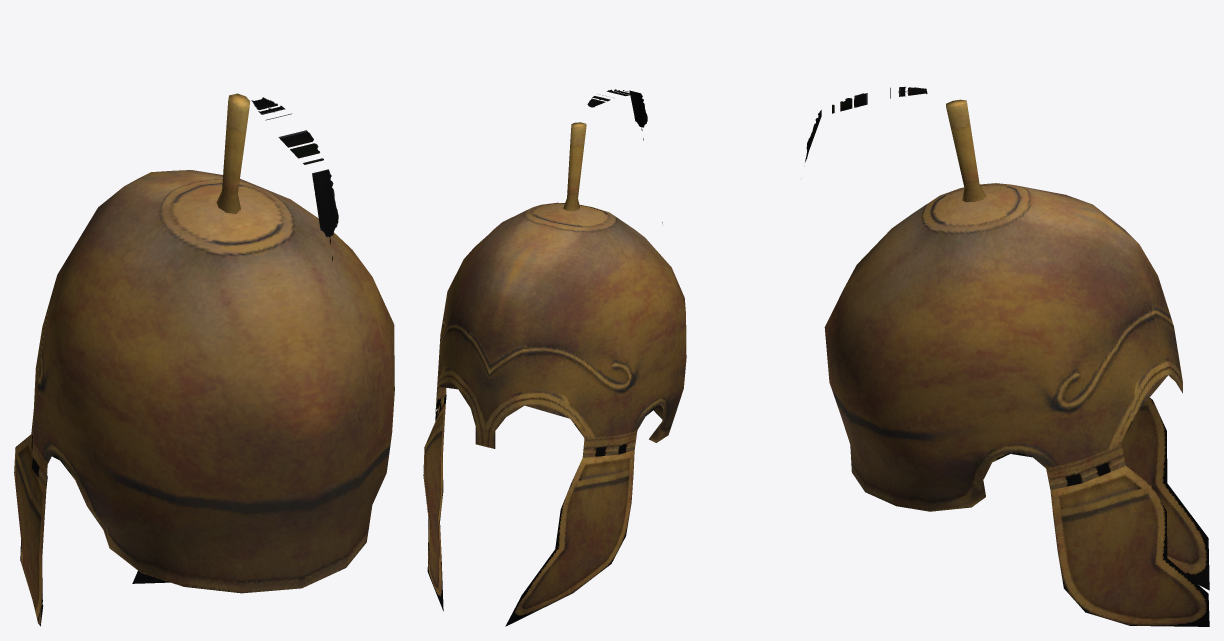
File: helm_hele_chalcidean_b6.glb
3 views of the same model, side by side, from view 1: azimuth 30°, elevation 25°; view 2: azimuth 150°, elevation 25°; view 3: azimuth 270°, elevation 25° (orthographic). The views are drawn at different scales.
Parts seen in each view (by area): view 1: helm_hele_chalcidean_b6_part0, helm_hele_chalcidean_b6_part2, helm_hele_chalcidean_b6_part1; view 2: helm_hele_chalcidean_b6_part0, helm_hele_chalcidean_b6_part2, helm_hele_chalcidean_b6_part1; view 3: helm_hele_chalcidean_b6_part0, helm_hele_chalcidean_b6_part2, helm_hele_chalcidean_b6_part1.
Part boxes in pixels (x1,y1,x2,y2): helm_hele_chalcidean_b6_part0: (31,93,394,593); helm_hele_chalcidean_b6_part2: (14,434,169,626); helm_hele_chalcidean_b6_part1: (251,97,361,425); helm_hele_chalcidean_b6_part0: (435,122,686,457); helm_hele_chalcidean_b6_part2: (423,395,634,626); helm_hele_chalcidean_b6_part1: (587,89,662,223); helm_hele_chalcidean_b6_part0: (824,99,1182,511); helm_hele_chalcidean_b6_part2: (1050,397,1209,626); helm_hele_chalcidean_b6_part1: (805,86,927,162).
Bounding box in the file's own units: 0.4589 × 1.04 × 0.7811.
2 materials, 2 textured.
